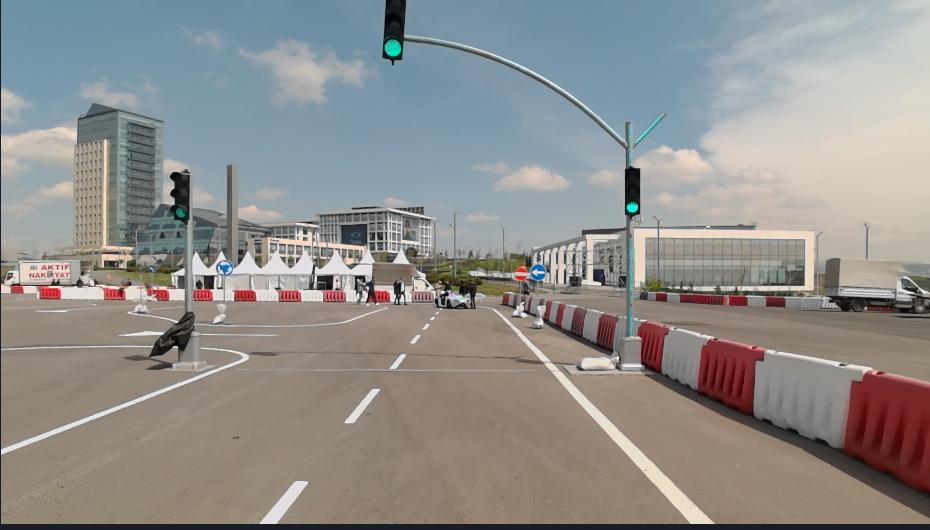nesne: (0, 295, 718, 529), (257, 301, 715, 524), (0, 300, 437, 527), (480, 302, 718, 527), (640, 318, 928, 492), (0, 344, 249, 455), (842, 369, 928, 486), (753, 350, 854, 448), (822, 258, 928, 314), (697, 336, 759, 412), (544, 296, 621, 353), (197, 305, 389, 327), (657, 325, 708, 394), (149, 310, 209, 365), (563, 335, 648, 373), (259, 477, 310, 526), (4, 260, 79, 285), (371, 263, 431, 292), (638, 320, 668, 374), (730, 294, 836, 308), (344, 386, 381, 423), (169, 168, 193, 225), (382, 2, 406, 59), (639, 289, 719, 304), (0, 343, 148, 351), (624, 219, 633, 335), (624, 165, 640, 220), (594, 312, 617, 349), (182, 223, 191, 311), (581, 308, 601, 343), (434, 291, 472, 309), (784, 296, 838, 307), (610, 315, 625, 354), (568, 305, 584, 338), (61, 287, 101, 299), (559, 302, 574, 331), (355, 275, 368, 304), (679, 295, 718, 304), (366, 273, 377, 303), (393, 277, 405, 304), (388, 350, 406, 368), (528, 264, 546, 281), (548, 300, 559, 326), (254, 289, 277, 301), (532, 304, 544, 327), (124, 288, 148, 299), (214, 259, 231, 274), (511, 301, 528, 316), (233, 289, 254, 301), (457, 276, 469, 297), (38, 287, 60, 298), (277, 290, 299, 301), (412, 288, 432, 300), (193, 288, 211, 301), (213, 304, 226, 322), (321, 290, 344, 300), (512, 265, 527, 280), (468, 280, 476, 307), (300, 291, 323, 300), (103, 288, 123, 298), (167, 288, 185, 299), (745, 296, 766, 305), (766, 296, 784, 306), (137, 301, 151, 313), (556, 301, 562, 327), (544, 299, 551, 320), (221, 273, 226, 302), (436, 278, 444, 296), (154, 289, 168, 299), (154, 290, 169, 299), (378, 289, 388, 302), (23, 285, 38, 293), (730, 297, 745, 305), (721, 293, 730, 306), (212, 288, 221, 300), (344, 291, 356, 300), (506, 292, 515, 304), (535, 281, 539, 306), (48, 275, 62, 282), (518, 280, 522, 303), (225, 288, 233, 299), (666, 293, 678, 300), (0, 286, 10, 294), (646, 291, 656, 299), (655, 292, 664, 300), (11, 286, 21, 292), (502, 292, 507, 304), (640, 291, 647, 299), (406, 290, 411, 301)
